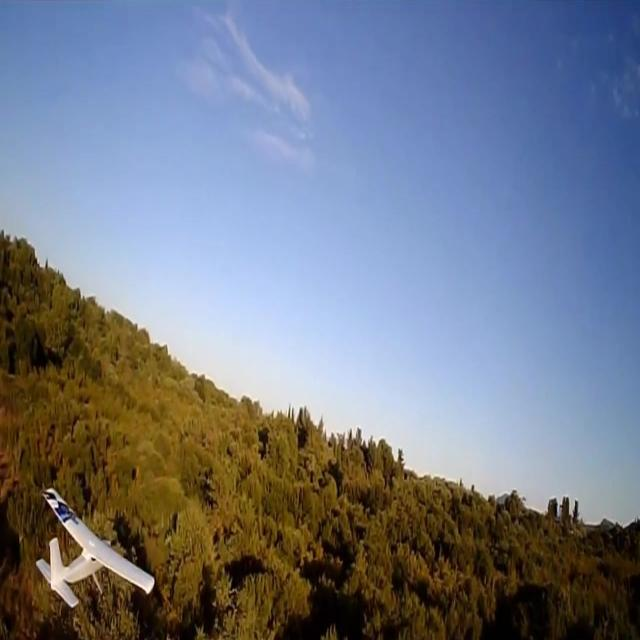iha: (3, 484, 59, 613)
